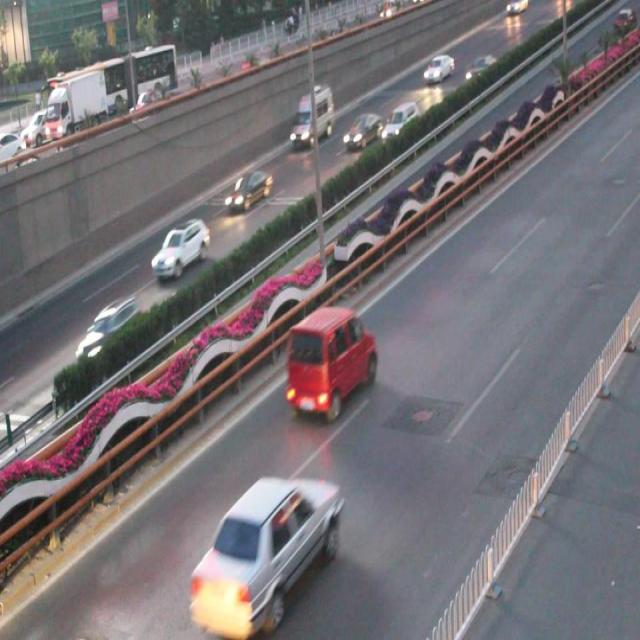car: (186, 473, 342, 627), (286, 306, 377, 416), (73, 295, 148, 362), (149, 219, 212, 279), (223, 165, 273, 213), (379, 102, 418, 146), (342, 113, 379, 149), (422, 51, 454, 83)
truck: (287, 84, 334, 148)
